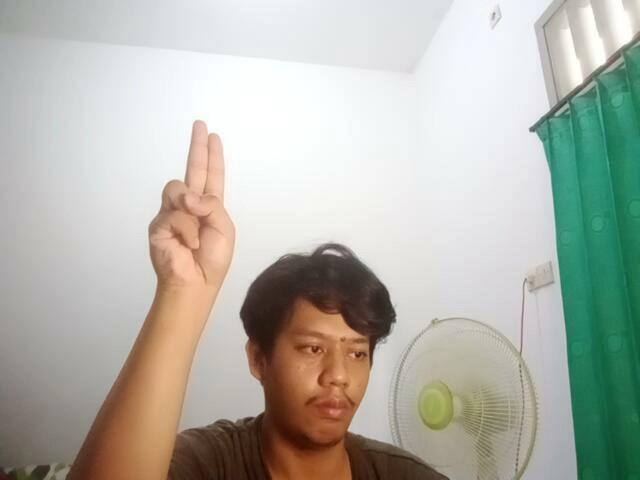U: (139, 115, 247, 296)
